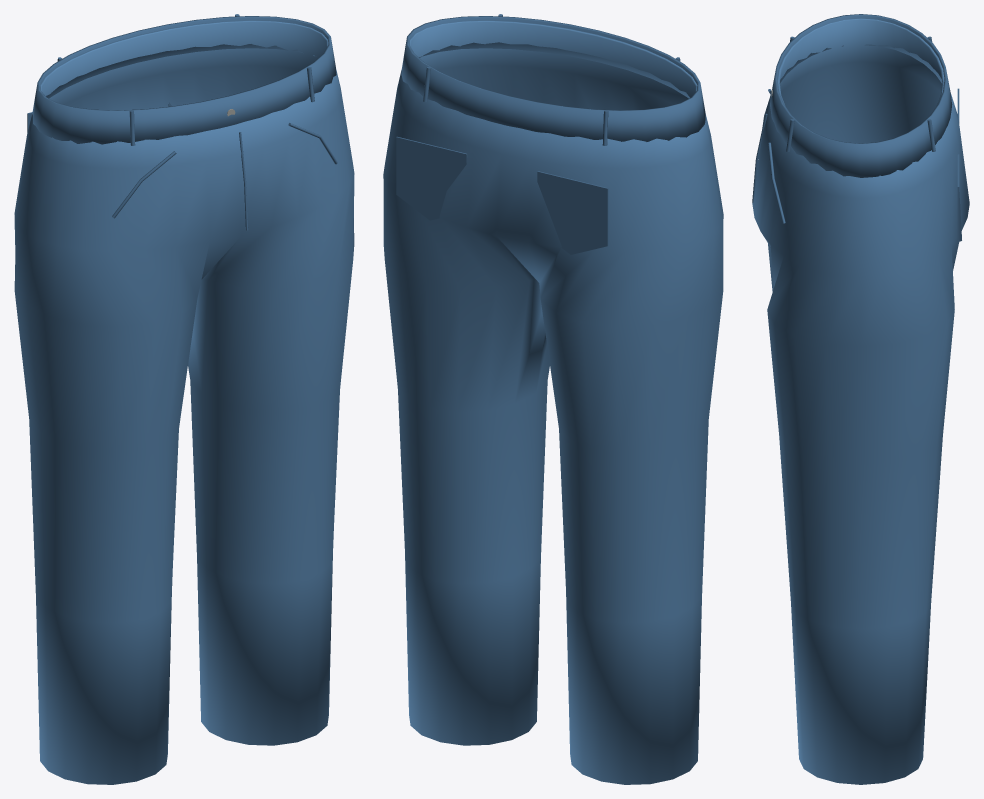
File: pants_straight_jeans.glb
3 renders of one model, left to right at view 1: azimuth 30°, elevation 25°; view 2: azimuth 150°, elevation 25°; view 3: azimuth 270°, elevation 25°, orthographic. The views are drawn at different scales.
Visible parts, largest first — view 1: Straight_Jeans_Connected_Hips_And_Legs, Straight_Jeans_Waistband; view 2: Straight_Jeans_Connected_Hips_And_Legs, Straight_Jeans_Waistband, Straight_Jeans_Back_Pocket, Straight_Jeans_Back_Pocket.001; view 3: Straight_Jeans_Connected_Hips_And_Legs, Straight_Jeans_Waistband.
Boxes of the visible parts, x1,y1,x2,y2 form: Straight_Jeans_Connected_Hips_And_Legs: [14, 20, 354, 784]; Straight_Jeans_Waistband: [32, 16, 336, 144]; Straight_Jeans_Connected_Hips_And_Legs: [383, 20, 723, 784]; Straight_Jeans_Waistband: [401, 16, 705, 141]; Straight_Jeans_Back_Pocket: [537, 171, 608, 254]; Straight_Jeans_Back_Pocket.001: [396, 136, 467, 220]; Straight_Jeans_Connected_Hips_And_Legs: [752, 18, 969, 784]; Straight_Jeans_Waistband: [770, 14, 952, 177].
Bounding box in the file's own units: 0.4781 × 0.9615 × 0.2948.
